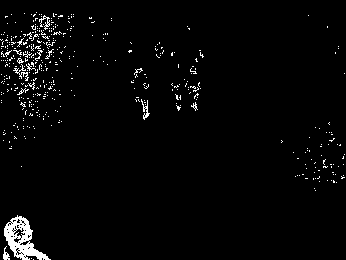person: (2, 211, 57, 260), (132, 65, 153, 121), (186, 63, 202, 112)
